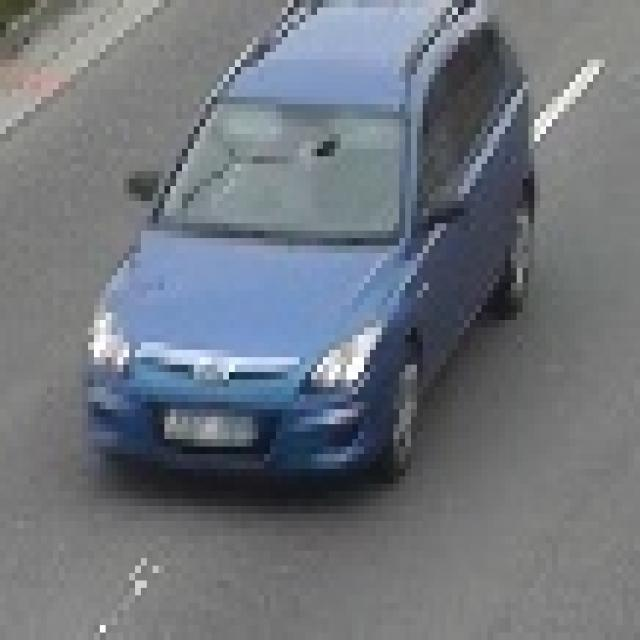blue: (88, 5, 540, 493)
